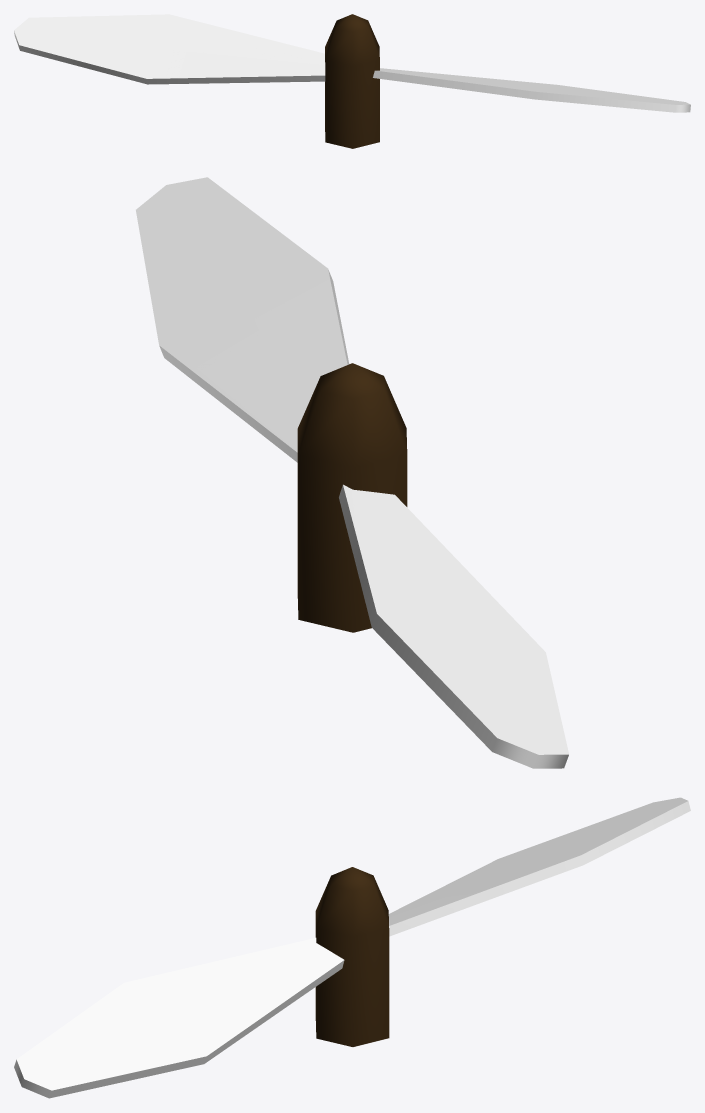
File: fan.fbx
3 views of the same model, one above another, from view 1: azimuth 30°, elevation 25°; view 2: azimuth 150°, elevation 25°; view 3: azimuth 270°, elevation 25° (orthographic). The views are drawn at different scales.
Parts seen in each view (by area): view 1: fane_4; view 2: fane_4; view 3: fane_4.
Part boxes in pixels (x1=…): fane_4: x1=14, y1=14, x2=690, y2=148; fane_4: x1=136, y1=177, x2=568, y2=768; fane_4: x1=14, y1=797, x2=690, y2=1098.
Size of the model in its own units: 27.44 by 7.22 by 27.24.
1 material, 1 textured.
